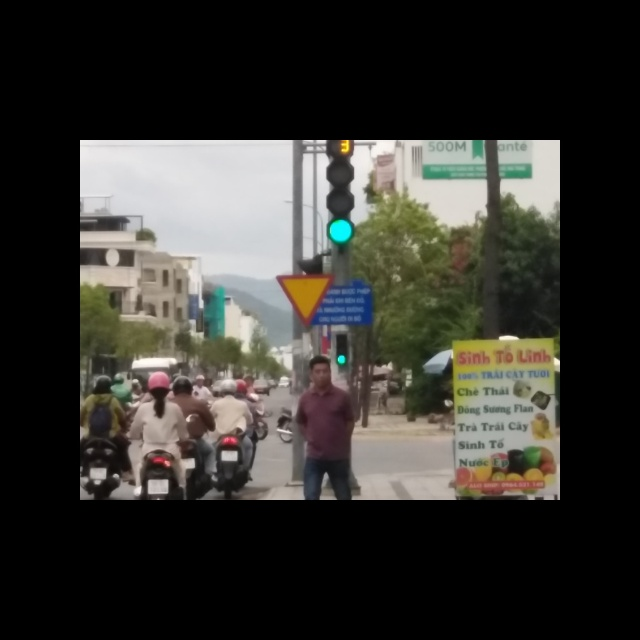Giao nhau với đường ưu tiên: (274, 273, 338, 325)
Đèn xanh: (326, 219, 355, 245)
